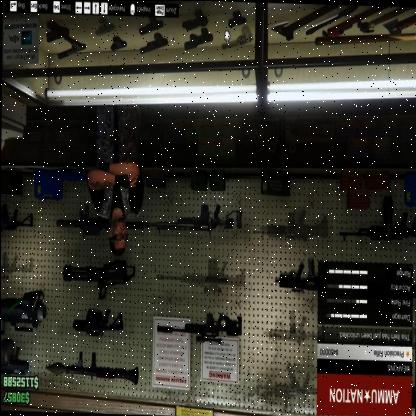rifle: (145, 197, 242, 233), (156, 309, 242, 347), (275, 257, 318, 295)
